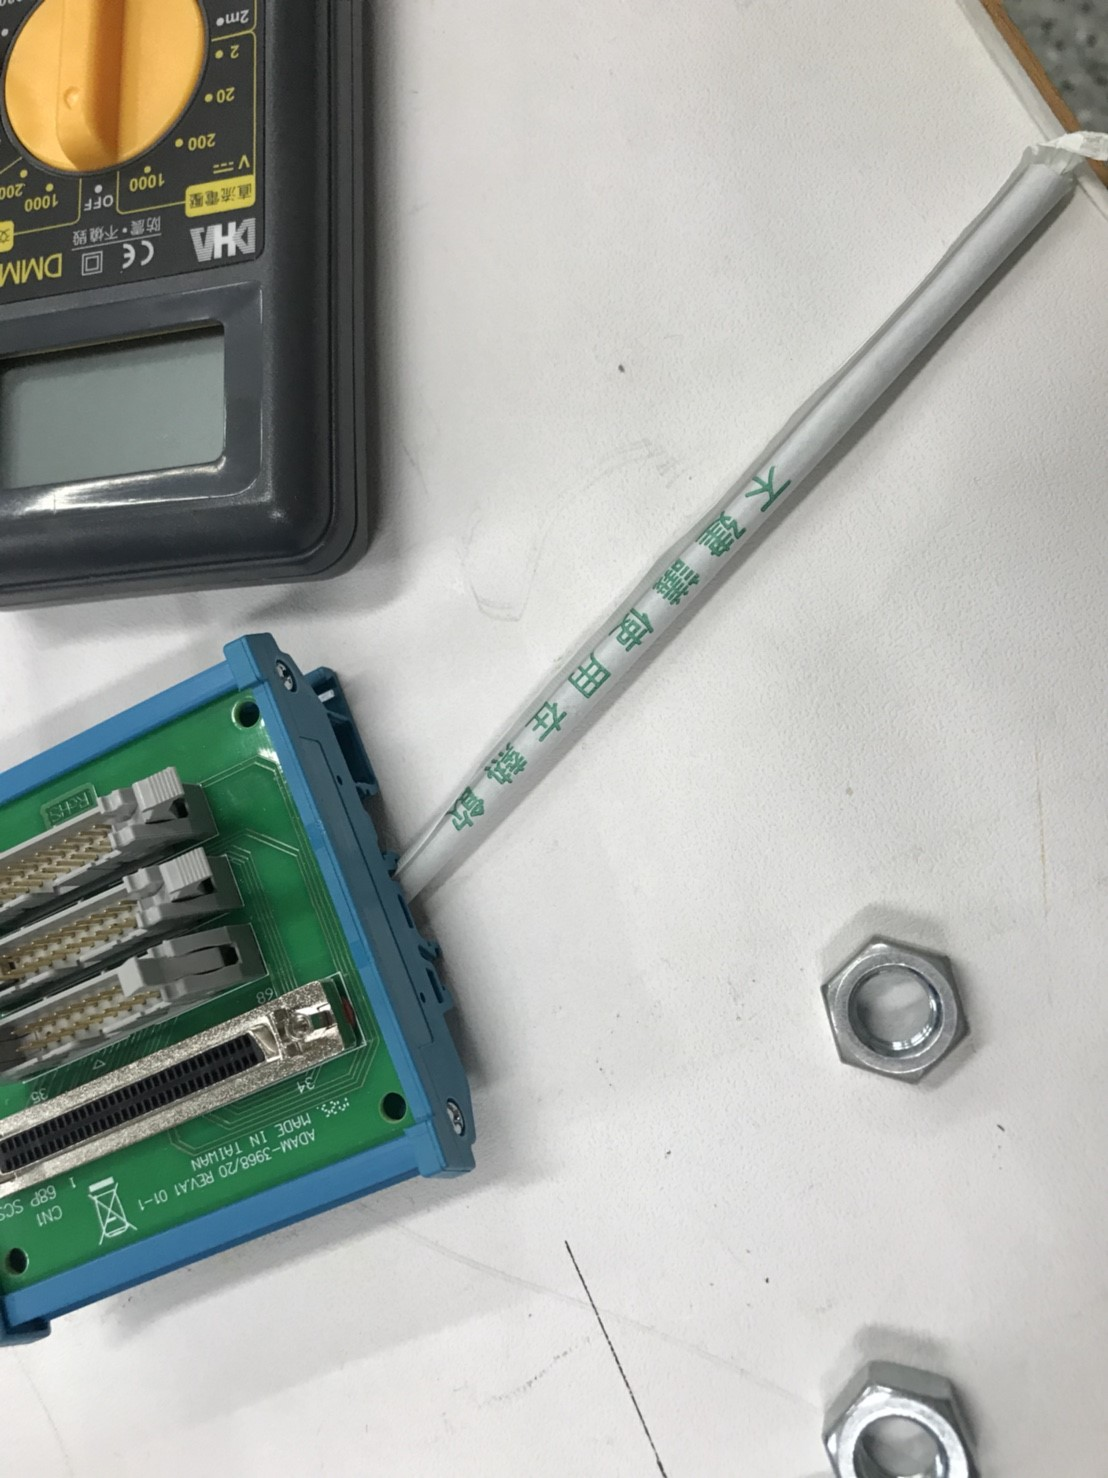nut: (817, 936, 976, 1085), (817, 1349, 981, 1478)
